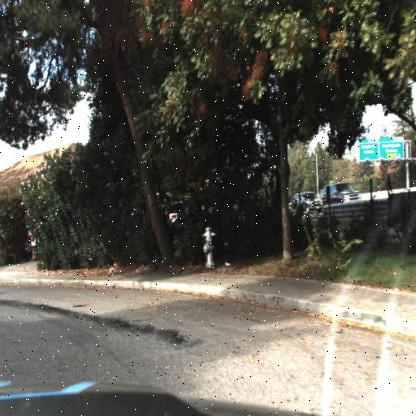car: (320, 182, 362, 208), (292, 191, 322, 214)
